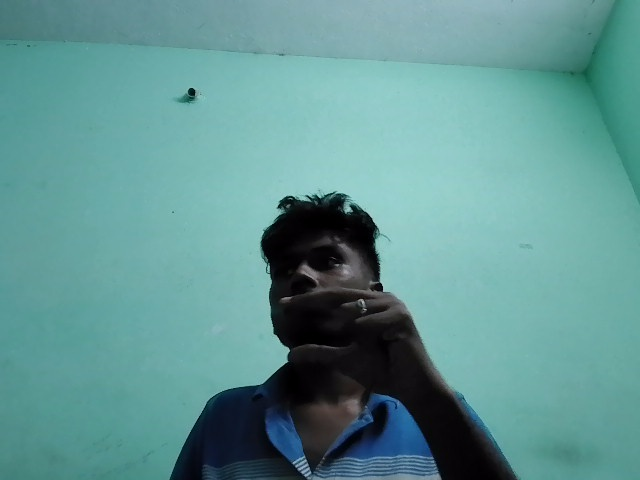No: (248, 283, 471, 405)
